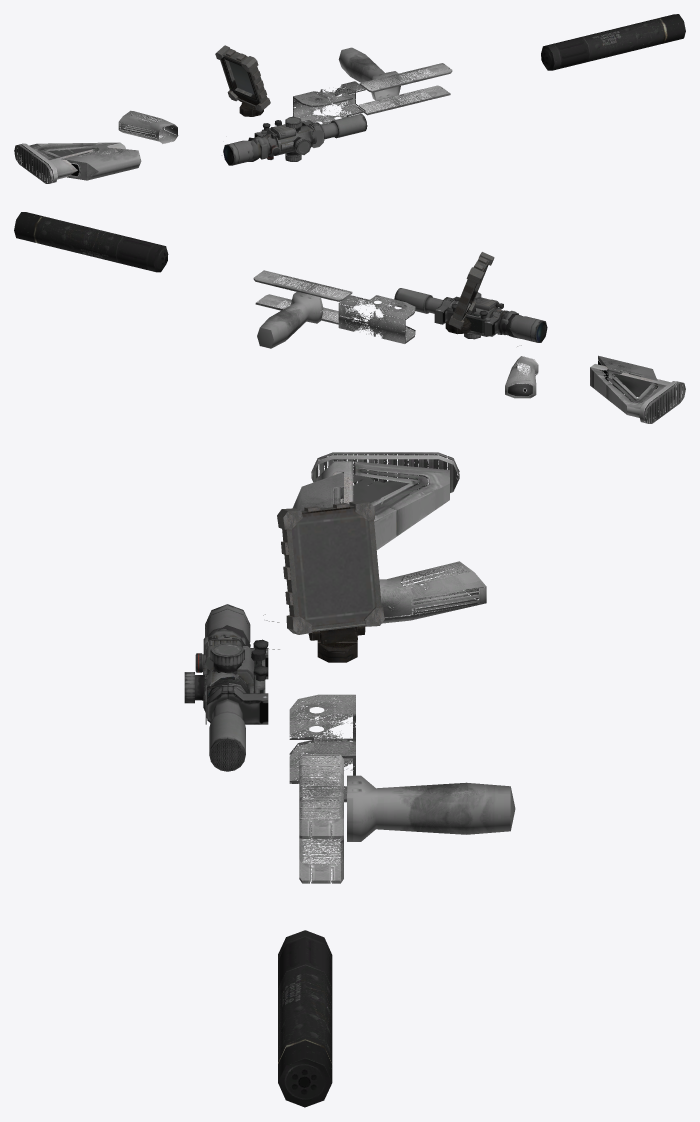
File: weapon_m14ebr_arctic_LOD0.obj
The picture shows the model from 3 angles, top to bottom: view 1: azimuth 30°, elevation 25°; view 2: azimuth 150°, elevation 25°; view 3: azimuth 270°, elevation 25°; orthographic projection. The views are drawn at different scales.
Visible parts, largest first — view 1: mtl_weapon_m14ebr_rifle_arctic, mtl_weapon_suppressor_b, mtl_weapon_m14ebr_scope_arctic, mtl_weapon_motion_tracker, mtl_weapon_m14ebr_foregrip_arctic, mtl_weapon_acog_2_arctic, mtl_weapon_thermal_sight_2; view 2: mtl_weapon_m14ebr_rifle_arctic, mtl_weapon_suppressor_b, mtl_weapon_m14ebr_scope_arctic, mtl_weapon_m14ebr_foregrip_arctic, mtl_weapon_motion_tracker, mtl_weapon_thermal_sight_2, mtl_weapon_acog_2_arctic; view 3: mtl_weapon_m14ebr_rifle_arctic, mtl_weapon_motion_tracker, mtl_weapon_suppressor_b, mtl_weapon_m14ebr_foregrip_arctic, mtl_weapon_m14ebr_scope_arctic, mtl_weapon_thermal_sight_2, mtl_weapon_acog_2_arctic.
Part boxes in pixels (x1=…): mtl_weapon_m14ebr_rifle_arctic: x1=14, y1=63, x2=452, y2=183; mtl_weapon_suppressor_b: x1=541, y1=14, x2=685, y2=70; mtl_weapon_m14ebr_scope_arctic: x1=223, y1=114, x2=367, y2=165; mtl_weapon_motion_tracker: x1=215, y1=45, x2=270, y2=116; mtl_weapon_m14ebr_foregrip_arctic: x1=338, y1=47, x2=400, y2=100; mtl_weapon_acog_2_arctic: x1=248, y1=116, x2=316, y2=159; mtl_weapon_thermal_sight_2: x1=248, y1=120, x2=323, y2=161; mtl_weapon_m14ebr_rifle_arctic: x1=253, y1=270, x2=685, y2=423; mtl_weapon_suppressor_b: x1=14, y1=212, x2=168, y2=272; mtl_weapon_m14ebr_scope_arctic: x1=394, y1=288, x2=547, y2=342; mtl_weapon_m14ebr_foregrip_arctic: x1=257, y1=291, x2=323, y2=348; mtl_weapon_motion_tracker: x1=445, y1=252, x2=494, y2=334; mtl_weapon_thermal_sight_2: x1=449, y1=296, x2=520, y2=338; mtl_weapon_acog_2_arctic: x1=447, y1=303, x2=522, y2=336; mtl_weapon_m14ebr_rifle_arctic: x1=263, y1=452, x2=486, y2=883; mtl_weapon_motion_tracker: x1=277, y1=500, x2=384, y2=662; mtl_weapon_suppressor_b: x1=278, y1=930, x2=332, y2=1107; mtl_weapon_m14ebr_foregrip_arctic: x1=347, y1=775, x2=515, y2=841; mtl_weapon_m14ebr_scope_arctic: x1=184, y1=604, x2=268, y2=771; mtl_weapon_thermal_sight_2: x1=203, y1=625, x2=265, y2=724; mtl_weapon_acog_2_arctic: x1=195, y1=627, x2=268, y2=712.
Size of the model in its own units: 121 by 18.36 by 27.67.
